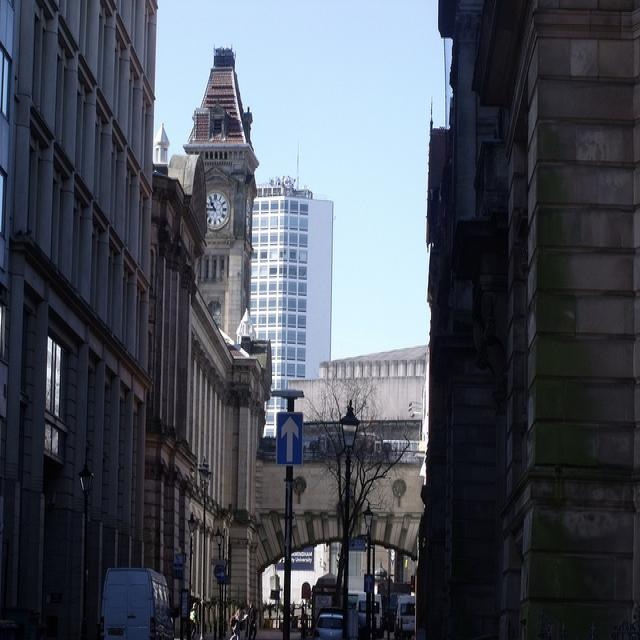Vehicle: (102, 566, 175, 639), (354, 594, 384, 639), (386, 593, 416, 637), (313, 608, 343, 640)
